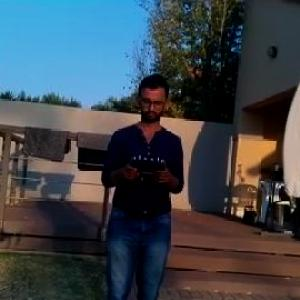follow: (105, 73, 201, 299)
